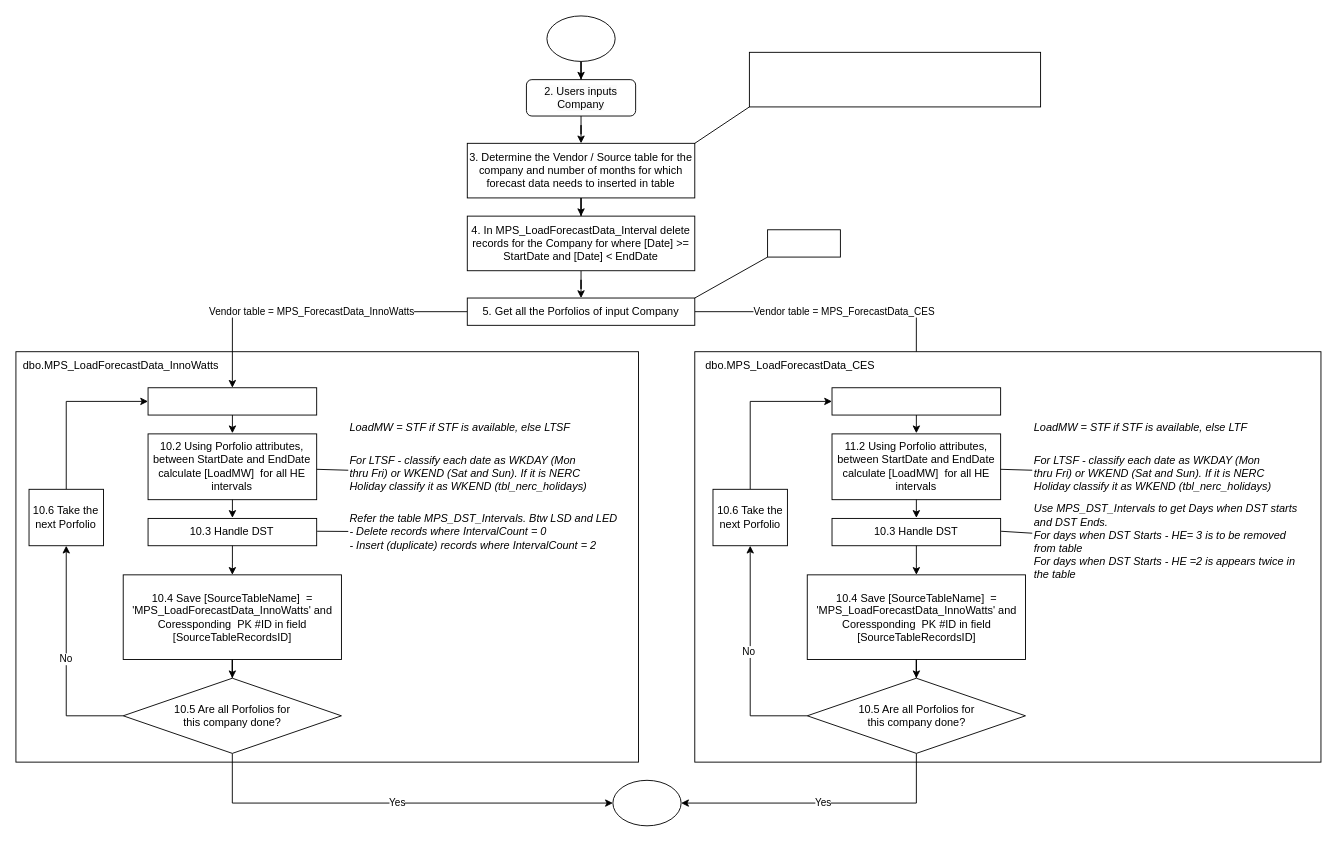
The diagram is 1338 pixels wide and 842 high, and some of its shapes have lost their labels. Here are the shapes that lost their labels. From the top down, the box of each, then its label:
(546, 15, 615, 61): 1. Start
(748, 51, 1041, 107): 1. Start Date = Today() + 1 2. EndDate = EOMONTH (StartDate, [PositionMonth])
(767, 229, 840, 257): MPS_Porfolio
(147, 387, 317, 415): 10.1 Take the first Porfolio
(831, 387, 1001, 415): 11.1 Take the first Porfolio
(612, 779, 681, 826): 20. End
